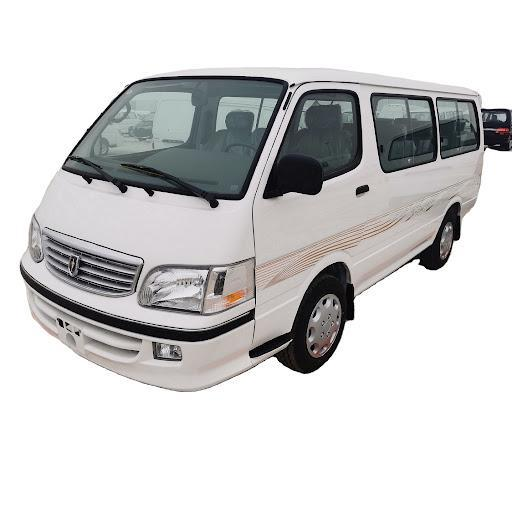van: (21, 51, 512, 378)
